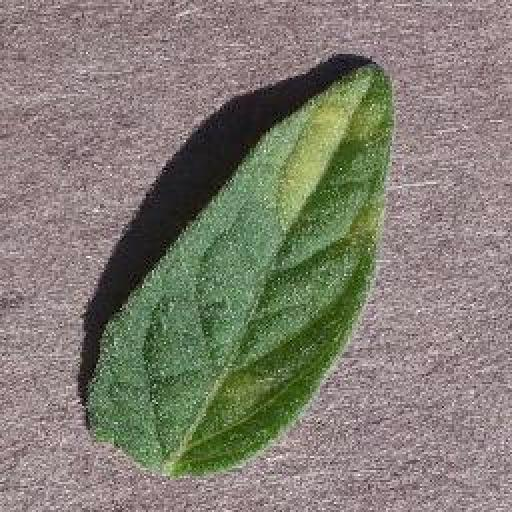disease_tomato: (90, 64, 396, 478)
